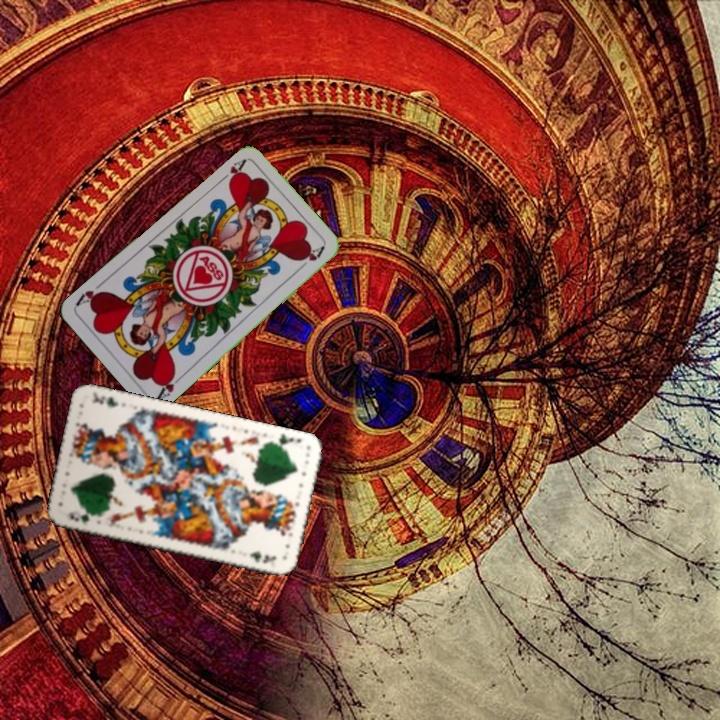GK: (269, 430, 304, 451), (64, 507, 101, 525)
HA: (153, 368, 186, 402), (214, 155, 249, 186)
